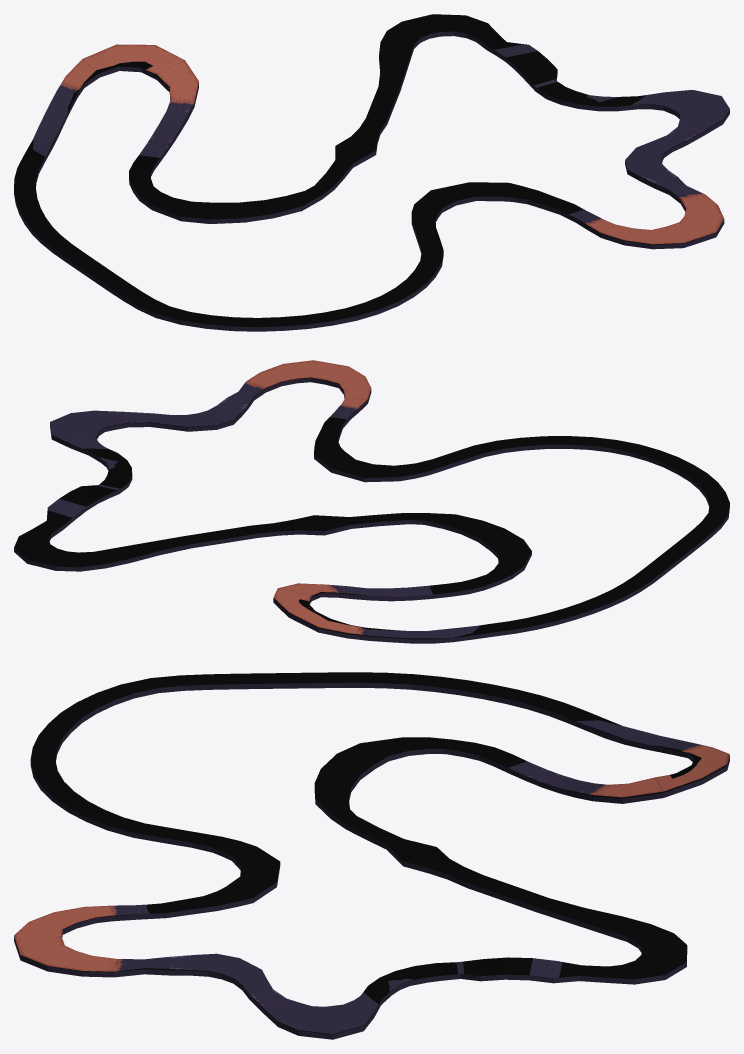
Rendered from Road64.glb.
3 renders of one model, top to bottom at view 1: azimuth 30°, elevation 25°; view 2: azimuth 150°, elevation 25°; view 3: azimuth 270°, elevation 25°, orthographic. The views are drawn at different scales.
Visible parts, largest first — view 1: Plane.020, Plane.014; view 2: Plane.020, Plane.014; view 3: Plane.020, Plane.014.
Boxes of the visible parts, x1,y1,x2,y2 form: Plane.020: (14,14,729,331); Plane.014: (33,44,729,244); Plane.020: (14,377,729,643); Plane.014: (47,360,479,638); Plane.020: (14,672,729,1039); Plane.014: (14,706,729,1033).
Bounding box in the file's own units: 361 × 18.59 × 301.
Materials: 1 (1 with a texture image).
